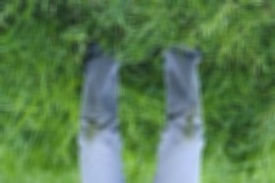earth: (86, 120, 94, 143), (184, 116, 191, 139)
